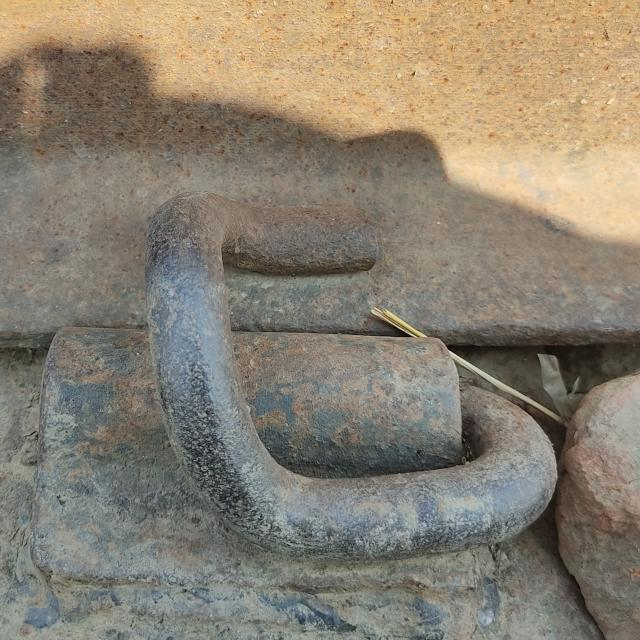track_bolt: (138, 184, 562, 569)
